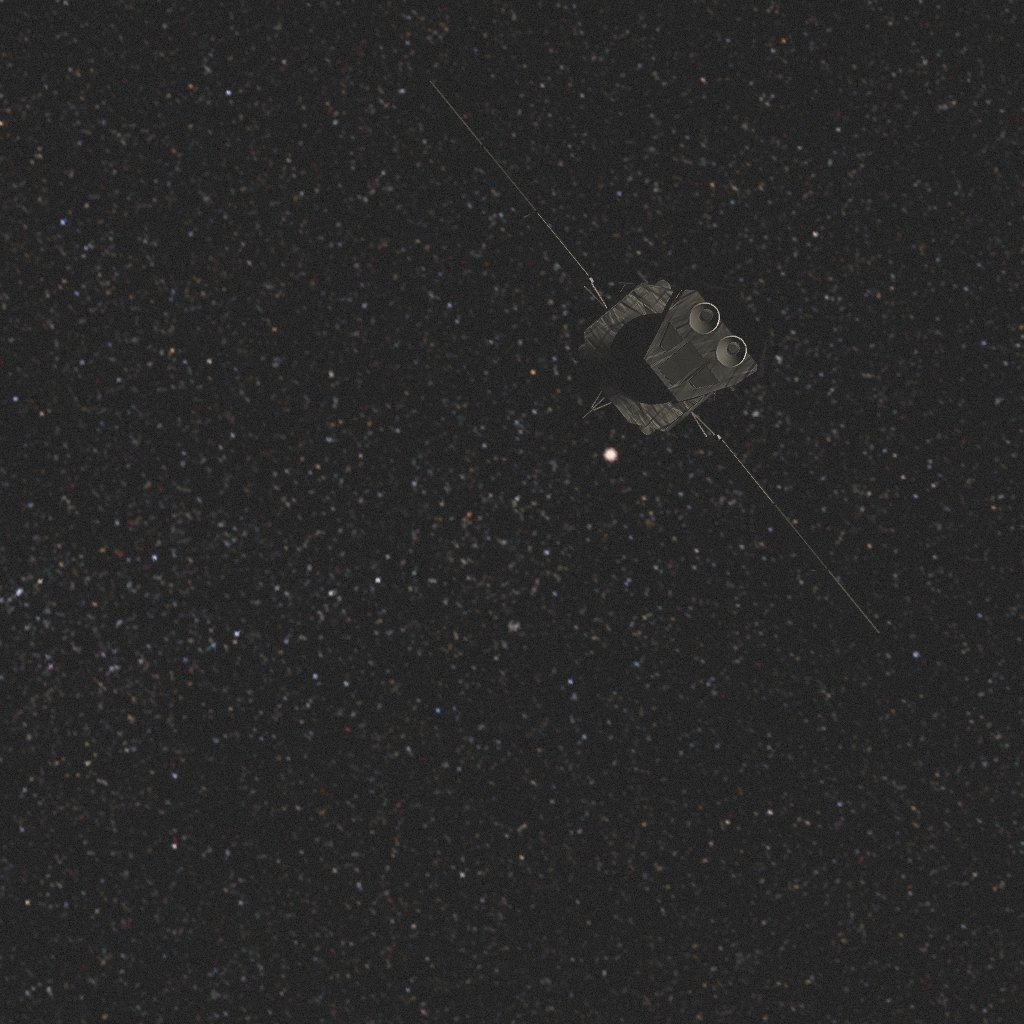xmm_newton: (418, 81, 880, 634)
